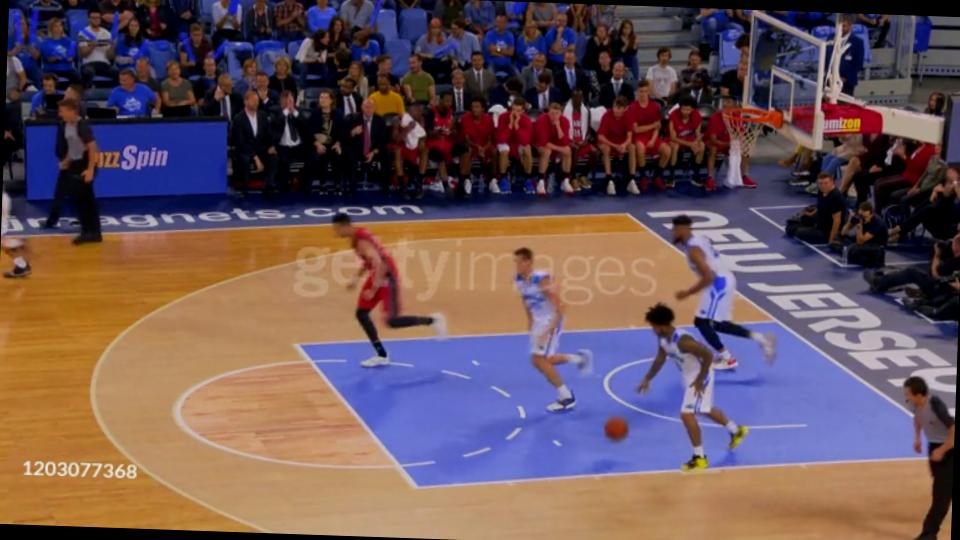hoop: (717, 99, 788, 134)
